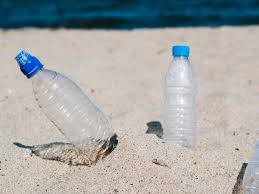Botella: (16, 51, 112, 140), (163, 46, 195, 146)
